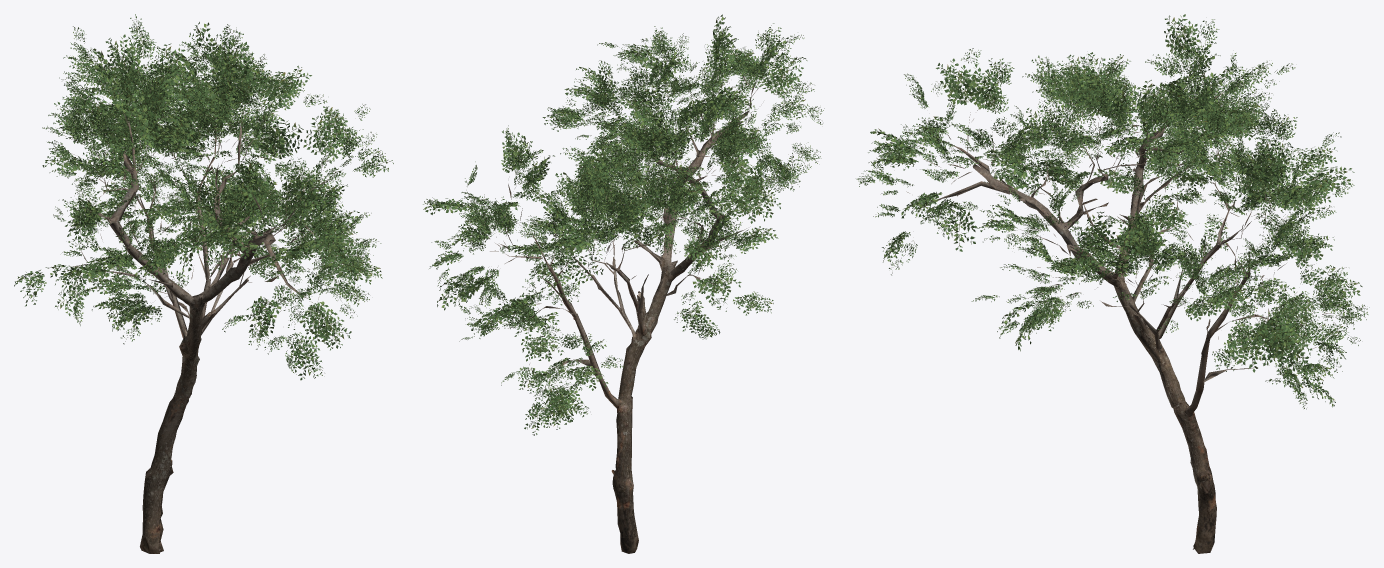
File: tree_small_02-web-slim.glb
The picture shows the model from 3 angles, left to right: view 1: azimuth 30°, elevation 25°; view 2: azimuth 150°, elevation 25°; view 3: azimuth 270°, elevation 25°; orthographic projection. The views are drawn at different scales.
Parts seen in each view (by area): view 1: tree_small_02_LOD0; view 2: tree_small_02_LOD0; view 3: tree_small_02_LOD0.
Part boxes in pixels (x1=…): tree_small_02_LOD0: x1=14, y1=14, x2=393, y2=553; tree_small_02_LOD0: x1=423, y1=14, x2=824, y2=553; tree_small_02_LOD0: x1=856, y1=14, x2=1369, y2=553.
Bounding box in the file's own units: 2.92 × 4.57 × 4.28.
Materials: 3 (3 with a texture image).
